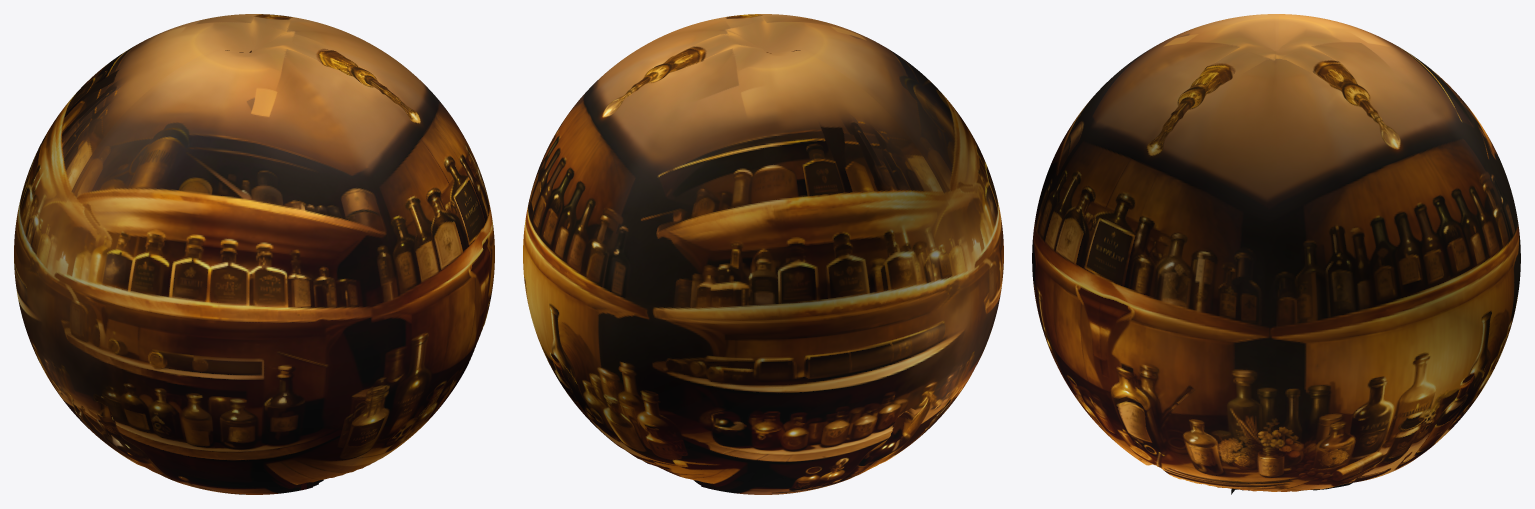
The model's file is ariadne_designs_ai_-_magick_alchemy_lab_skybox_2.glb.
3 views of the same model, side by side, from view 1: azimuth 30°, elevation 25°; view 2: azimuth 150°, elevation 25°; view 3: azimuth 270°, elevation 25° (orthographic).
Visible parts, largest first — view 1: skybox_mesh_0; view 2: skybox_mesh_0; view 3: skybox_mesh_0.
Part boxes in pixels (left/top/right/bottom): skybox_mesh_0: left=14, top=14, right=494, bottom=494; skybox_mesh_0: left=523, top=14, right=1003, bottom=494; skybox_mesh_0: left=1032, top=14, right=1520, bottom=494.
Size of the model in its own units: 10.37 by 10.21 by 10.37.
Materials: 1 (1 with a texture image).
